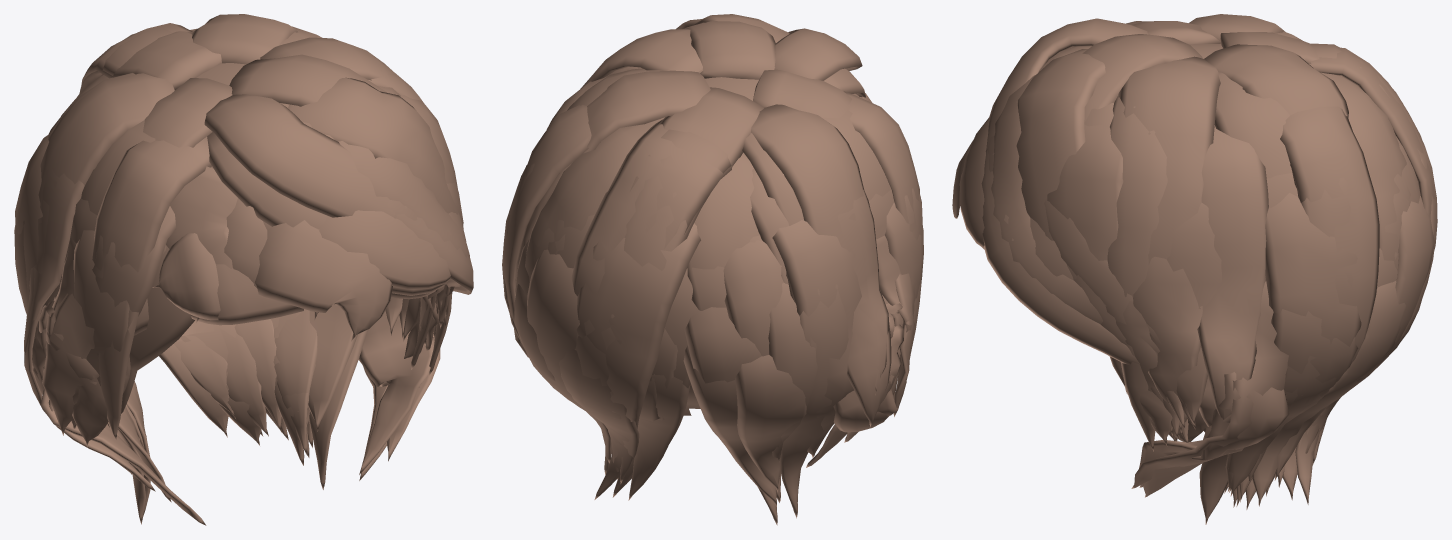
File: hair_anime_female_pixie_cut.glb
3 renders of one model, left to right at view 1: azimuth 30°, elevation 25°; view 2: azimuth 150°, elevation 25°; view 3: azimuth 270°, elevation 25°, orthographic. The views are drawn at different scales.
Parts seen in each view (by area): view 1: AF_Hair_PixieCut.001; view 2: AF_Hair_PixieCut.001; view 3: AF_Hair_PixieCut.001.
Part boxes in pixels (x1=…): AF_Hair_PixieCut.001: x1=14, y1=14, x2=473, y2=525; AF_Hair_PixieCut.001: x1=502, y1=14, x2=923, y2=525; AF_Hair_PixieCut.001: x1=952, y1=14, x2=1437, y2=524.
Size of the model in its own units: 0.2355 by 0.2574 by 0.2494.
